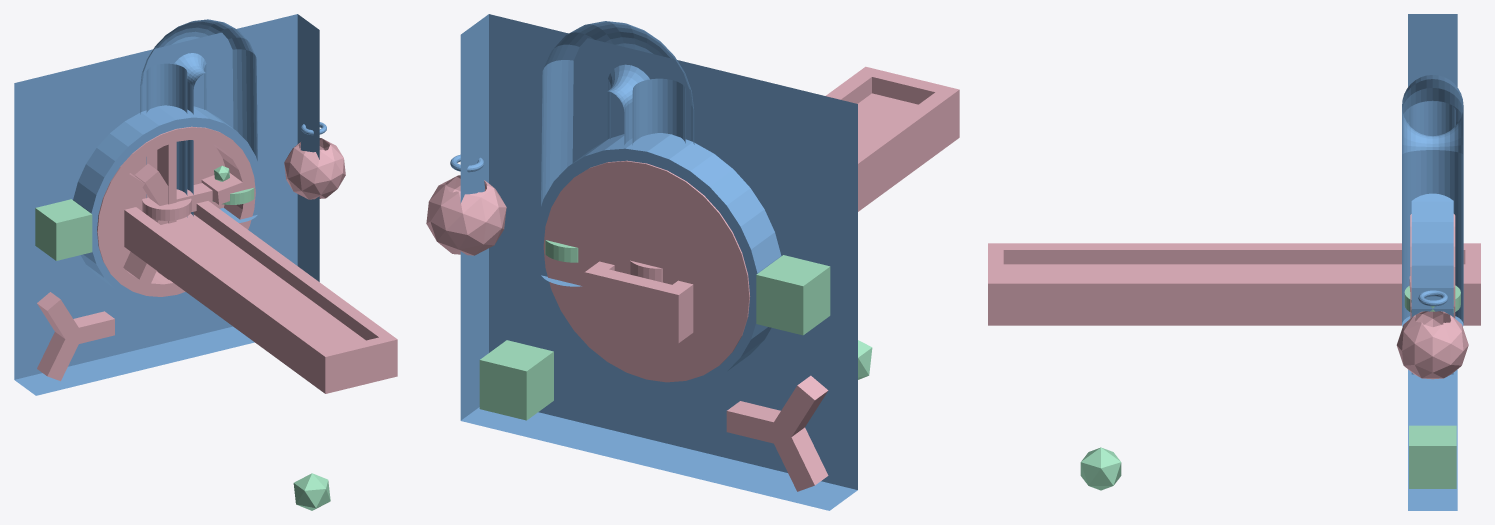
Rendered from marble.glb.
The picture shows the model from 3 angles, left to right: view 1: azimuth 30°, elevation 25°; view 2: azimuth 150°, elevation 25°; view 3: azimuth 270°, elevation 25°; orthographic projection. The views are drawn at different scales.
Parts seen in each view (by area): view 1: Cube.001, Cube.002, Cylinder.001, Ground, Cylinder.002, Cylinder.005, Goal.005, Platform, Cylinder, Cylinder.004, Goal.002, Cube (+1 smaller); view 2: Cube.001, Cylinder.001, Cube.002, Ground, Cylinder.002, Cylinder.005, Goal.005, Goal.006, Platform, Cylinder; view 3: Cube.002, Cylinder.002, Cube.001, Ground, Platform, Goal.006, Cylinder, Goal.002.
Boxes of the visible parts, x1,y1,x2,y2 form: Cube.001: (14,14,319,395); Cube.002: (124,201,397,393); Cylinder.001: (97,126,255,296); Ground: (73,105,262,302); Cylinder.002: (140,19,257,222); Cylinder.005: (37,292,114,381); Goal.005: (35,199,92,260); Platform: (284,138,345,199); Cylinder: (146,63,187,217); Cylinder.004: (135,163,212,224); Goal.002: (293,473,330,510); Cube: (157,142,176,279); Cube.001: (460,14,857,510); Cylinder.001: (543,160,750,382); Cube.002: (584,66,959,343); Ground: (535,133,781,389); Cylinder.002: (541,21,694,286); Cylinder.005: (726,375,828,491); Goal.005: (756,255,830,335); Goal.006: (479,340,553,420); Platform: (426,175,506,255); Cylinder: (632,78,685,144); Cube.002: (988,243,1480,325); Cylinder.002: (1402,75,1463,326); Cube.001: (1408,14,1457,510); Ground: (1411,193,1453,374); Platform: (1396,311,1468,379); Goal.006: (1409,425,1456,488); Cylinder: (1409,101,1455,135); Goal.002: (1080,447,1121,490).
Bounding box in the file's own units: 8.78 × 9.89 × 10.34.
